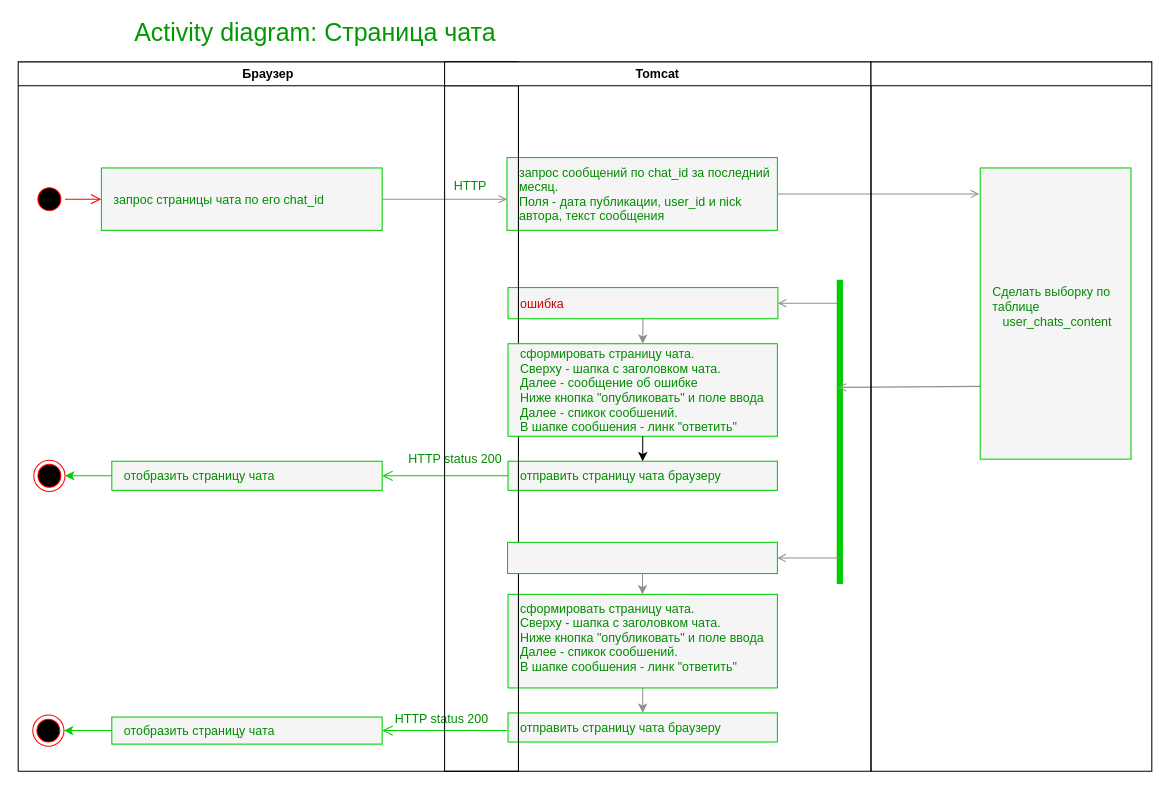
Some shapes in this 1170 by 789 pixel diagram are drawn without their labels. The shapes that lost their labels are listed below. From the top down, each one's centre as x and y in pixels, then its label:
At [1011,416]: "PostgreSQL".
At [641,557]: "выборка прошла успешно".
